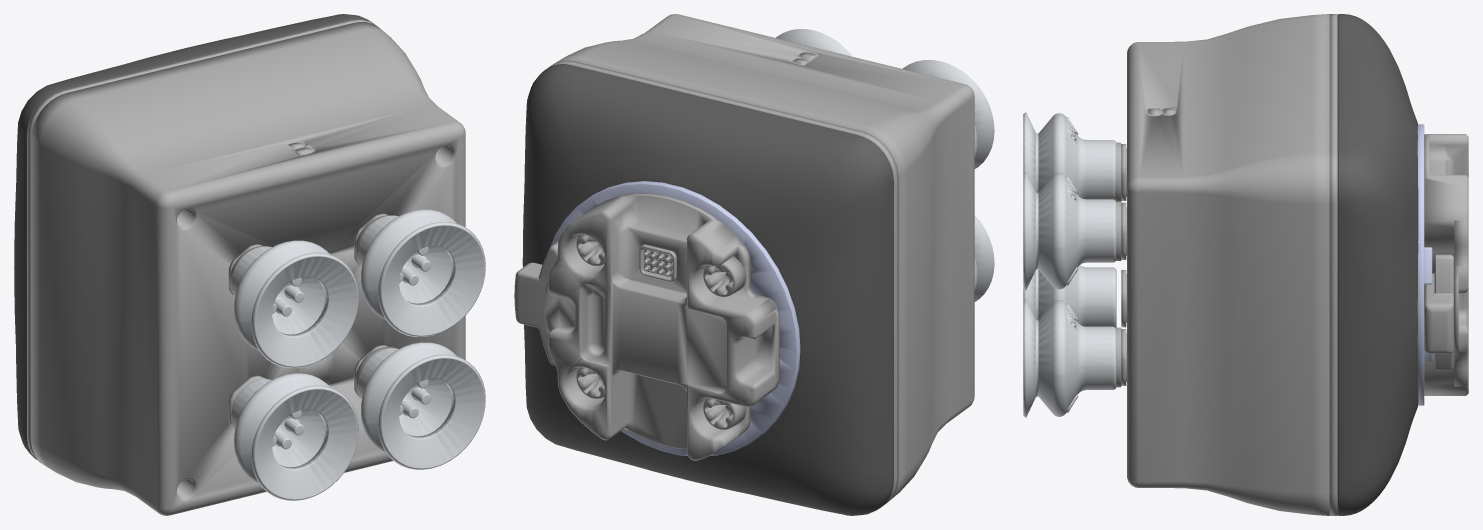
Rendered from gripper_vgc10_4.gltf.
3 views of the same model, side by side, from view 1: azimuth 30°, elevation 25°; view 2: azimuth 150°, elevation 25°; view 3: azimuth 270°, elevation 25° (orthographic). The views are drawn at different scales.
Visible parts, largest first — view 1: node0.002; view 2: node0.002; view 3: node0.002.
Part boxes in pixels (box(x1,y1,x2,y2)): node0.002: box(14, 14, 485, 515); node0.002: box(514, 14, 994, 515); node0.002: box(1023, 14, 1468, 515).
Bounding box in the file's own units: 0.1 × 0.1 × 0.1121.
